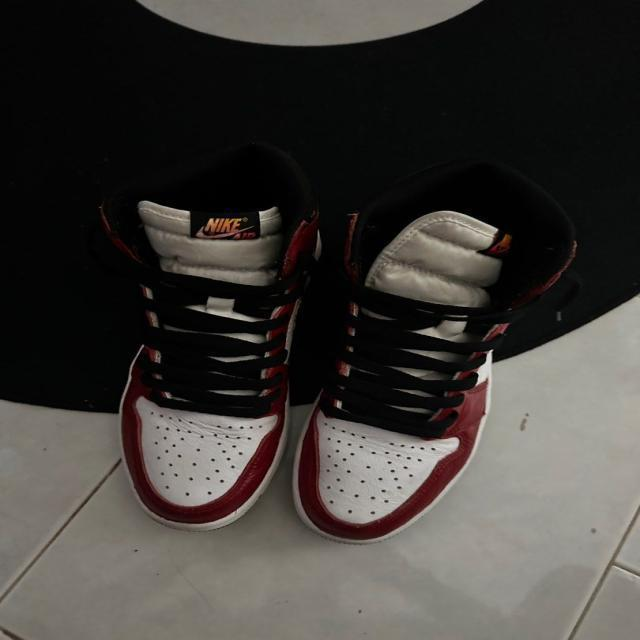nike original jordan 1: (282, 160, 584, 547), (91, 158, 338, 532)
